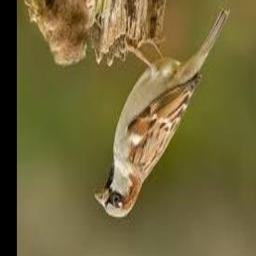Sparrow: (94, 6, 230, 218)
